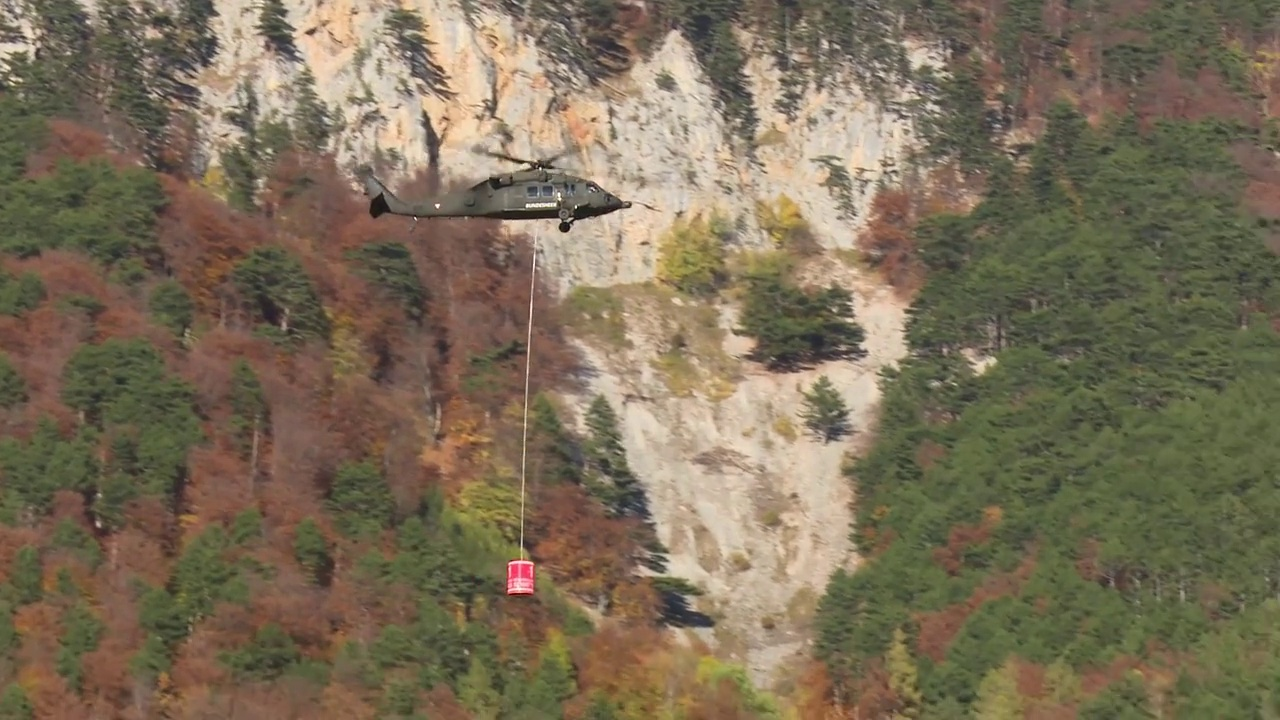heli: (364, 150, 630, 232)
